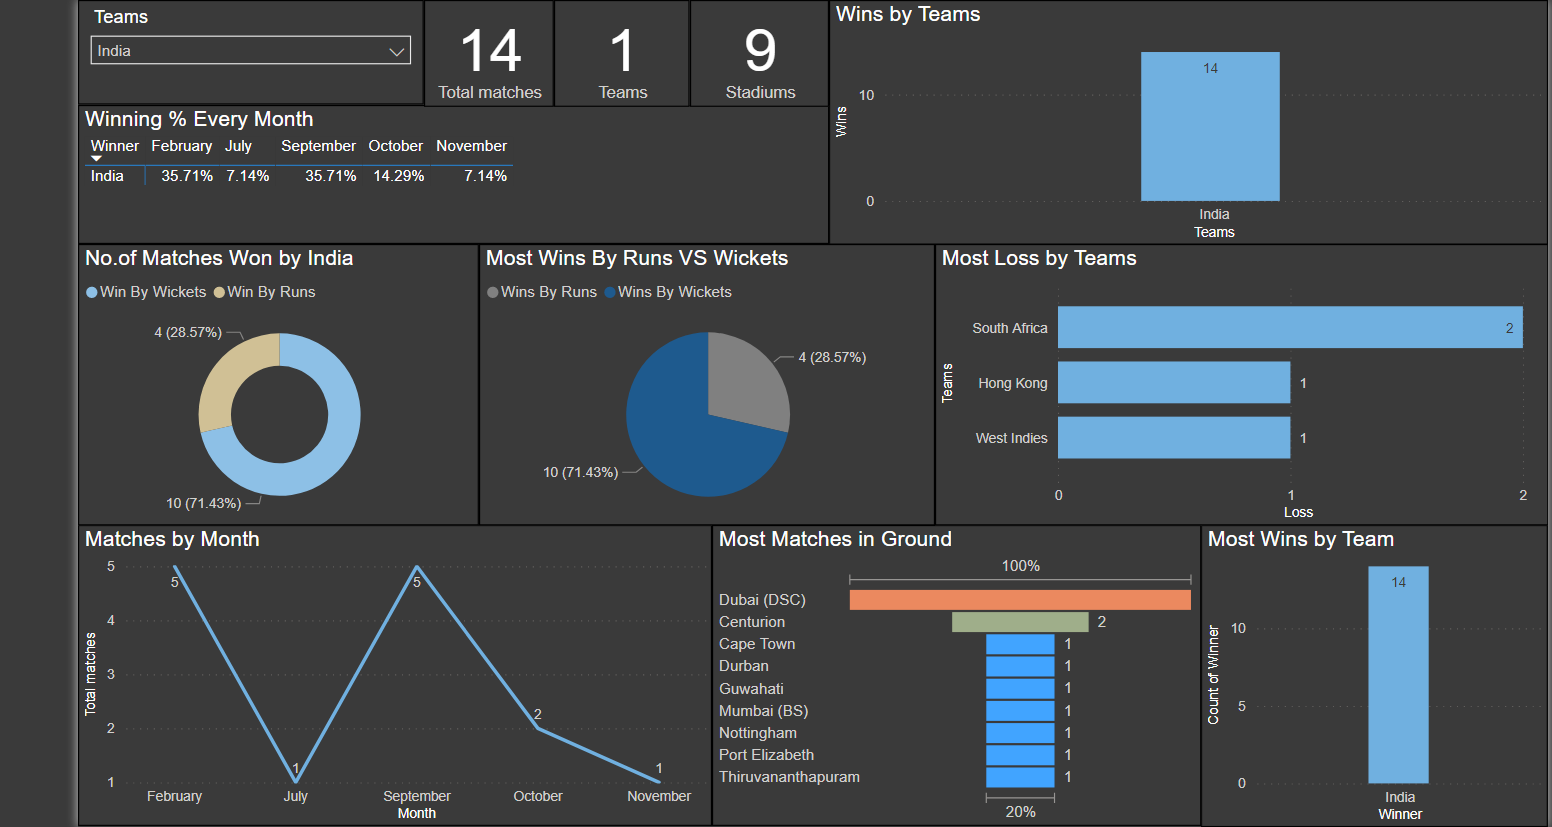

This screenshot's page, from the dashboard's own definition file:
{"tool":"powerbi","page":{"name":"Page 1","canvas":[1280,720],"ordinal":0},"visuals":[{"type":"lineChart","title":"Matches by Month","fields":{"Category":["Sheet1.Match Date.Variation.Date Hierarchy.Month"],"Y":["Sheet1.Total matches"]},"box":[0,457.3,552.1,262.5],"z":0},{"type":"columnChart","fields":{"Category":["Sheet1.Teams"],"Y":["CountNonNull(Sheet1.Team 1)"]},"box":[653.9,0,626.1,212.6],"z":1000},{"type":"columnChart","title":"Most Wins by Team","fields":{"Category":["Sheet1.Winner"],"Y":["CountNonNull(Sheet1.Winner)"]},"box":[977.7,457.5,302.3,262.8],"z":2000},{"type":"pieChart","title":"Most Wins By Runs VS Wickets","fields":{"Y":["CountNonNull(Sheet1.Win By Runs)","CountNonNull(Sheet1.Win By Wickets)"]},"box":[348.9,212.6,397.4,244.9],"z":3000},{"type":"funnel","title":"Most Matches in Ground","fields":{"Category":["Sheet1.Ground"],"Y":["CountNonNull(Sheet1.Match Date)"]},"box":[551.6,457.5,426.1,261.9],"z":4000},{"type":"donutChart","title":"No.of Matches Won  by India","fields":{"Y":["CountNonNull(Sheet1.Win By Wickets)","CountNonNull(Sheet1.Win By Runs)"]},"box":[0,212.6,348.9,244.9],"z":5000},{"type":"pivotTable","title":"Winning % Every Month","fields":{"Rows":["Sheet1.Winner"],"Columns":["Sheet1.Match Date.Variation.Date Hierarchy.Month"],"Values":["Min(Sheet1.Winner)"]},"box":[0,91.5,653.9,121.1],"z":6000},{"type":"card","fields":{"Values":["Sheet1.Total matches"]},"box":[301.4,0,113,93.3],"z":7000},{"type":"card","fields":{"Values":["Count(Sheet1.Teams)"]},"box":[414.4,0,118.4,93.3],"z":8000},{"type":"card","fields":{"Values":["Count(Sheet1.Ground)"]},"box":[532.8,0,121.1,93.3],"z":9000},{"type":"clusteredBarChart","title":"Most Loss by Teams","fields":{"Category":["Sheet1.Lost While Chasing"],"Y":["CountNonNull(Sheet1.Lost While Chasing)"]},"box":[746.3,212.6,533.7,244.9],"z":10000},{"type":"slicer","fields":{"Values":["Sheet1.Teams"]},"box":[0,0,301.4,91.5],"z":11000}]}

Visuals, with their boxes on the page's 1280x720 design canvas (x1, y1, x2, y2). These are canvas units, not pixel positions in the 1552x827 screenshot, which may show the page scaled, cropped or inside an application window:
"Matches by Month" lineChart: locate(0, 457, 552, 720)
columnChart - Sheet1.Teams x CountNonNull(Sheet1.Team 1): locate(654, 0, 1280, 213)
"Most Wins by Team" columnChart: locate(978, 458, 1280, 720)
"Most Wins By Runs VS Wickets" pieChart: locate(349, 213, 746, 458)
"Most Matches in Ground" funnel: locate(552, 458, 978, 719)
"No.of Matches Won  by India" donutChart: locate(0, 213, 349, 458)
"Winning % Every Month" pivotTable: locate(0, 92, 654, 213)
card - Sheet1.Total matches: locate(301, 0, 414, 93)
card - Count(Sheet1.Teams): locate(414, 0, 533, 93)
card - Count(Sheet1.Ground): locate(533, 0, 654, 93)
"Most Loss by Teams" clusteredBarChart: locate(746, 213, 1280, 458)
slicer - Sheet1.Teams: locate(0, 0, 301, 92)
